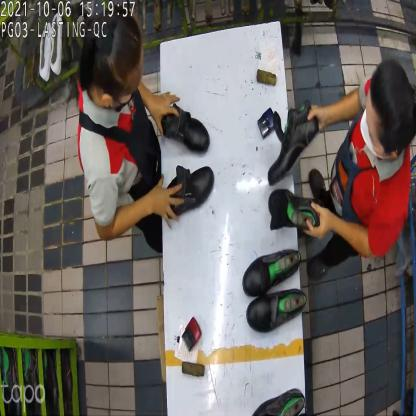shoes: (268, 100, 327, 238), (158, 104, 217, 226), (241, 242, 306, 337)
stamp: (258, 105, 281, 142), (180, 317, 202, 352)
